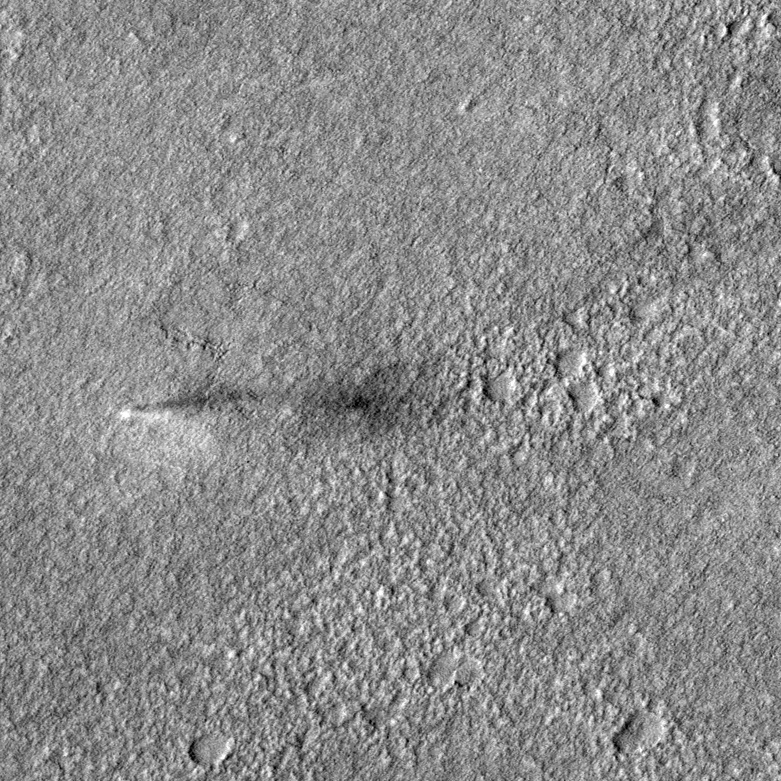dust_devil: (114, 355, 453, 447)
